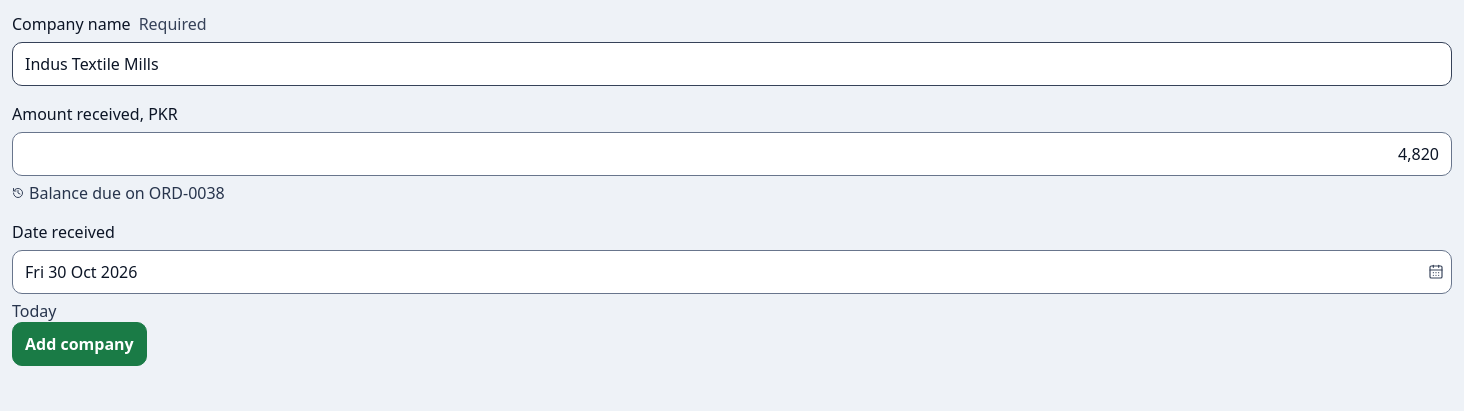
Scenario: Form (U07): errors keep the entries and speak plainly › unique violation: the sentence appears on the field, the other entries stay
Click the button "Add company". click: click(79, 344)
box: [12, 322, 147, 366]
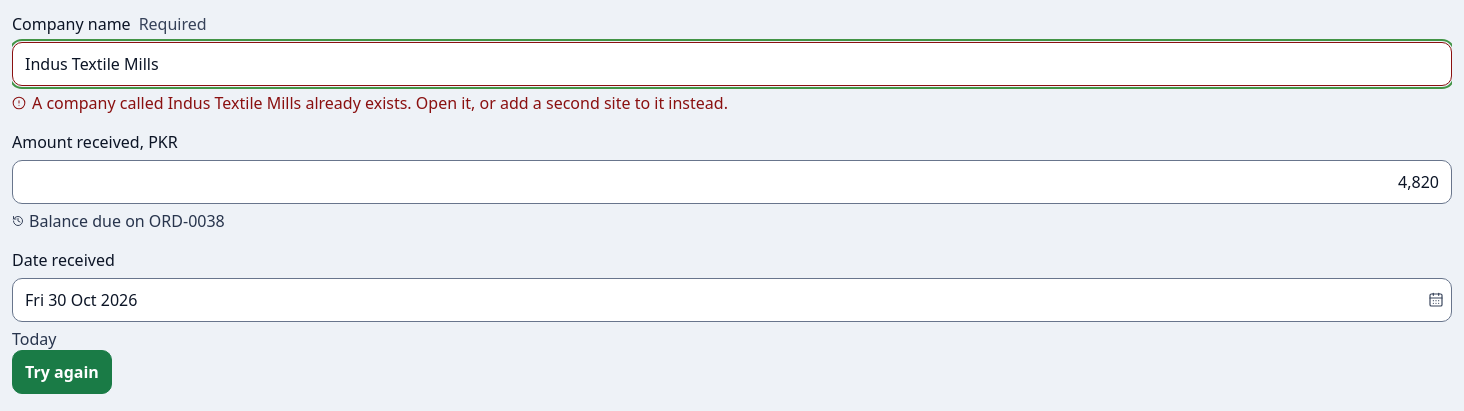
Expected: the field labelled "Company name" holds "Indus Textile Mills", [12, 42, 1452, 86]
Now the text "A company called Indus Textile Mills already exists" is shown, box [32, 92, 728, 114]
